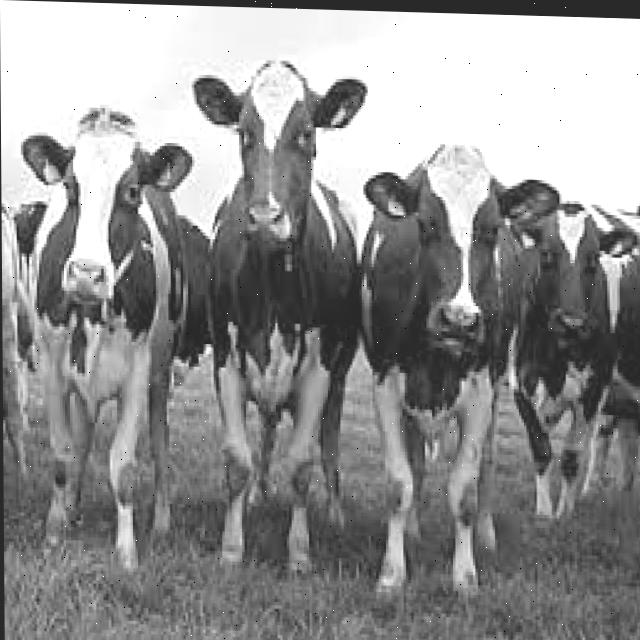Cow: (1, 46, 640, 610)
